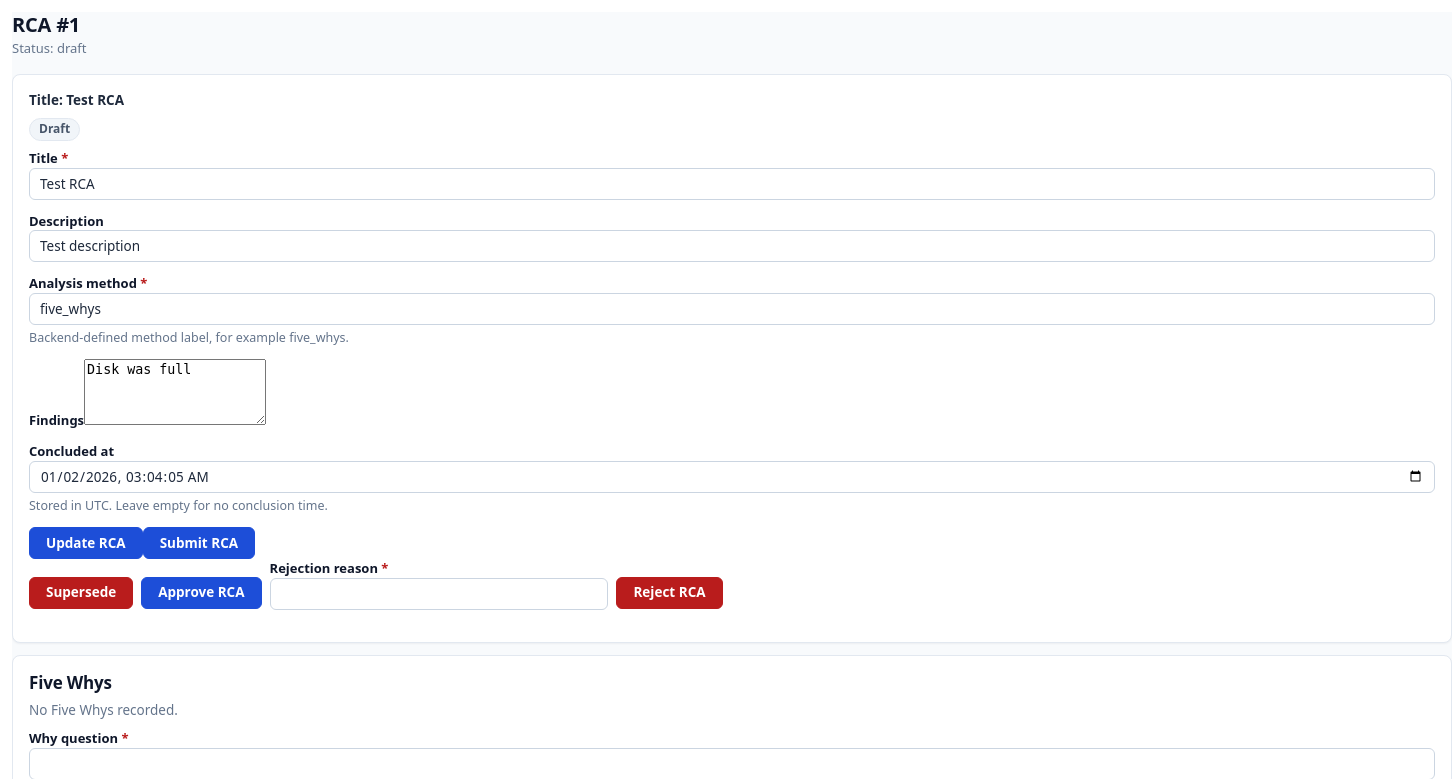
it: RCA › disables analysis saves while an update is in flight
The image size is (1452, 779).
What coordinates should you click on to do the following:
click the button "Update RCA"
I would click on:
 (86, 543)
Its box is [29,527,143,559].
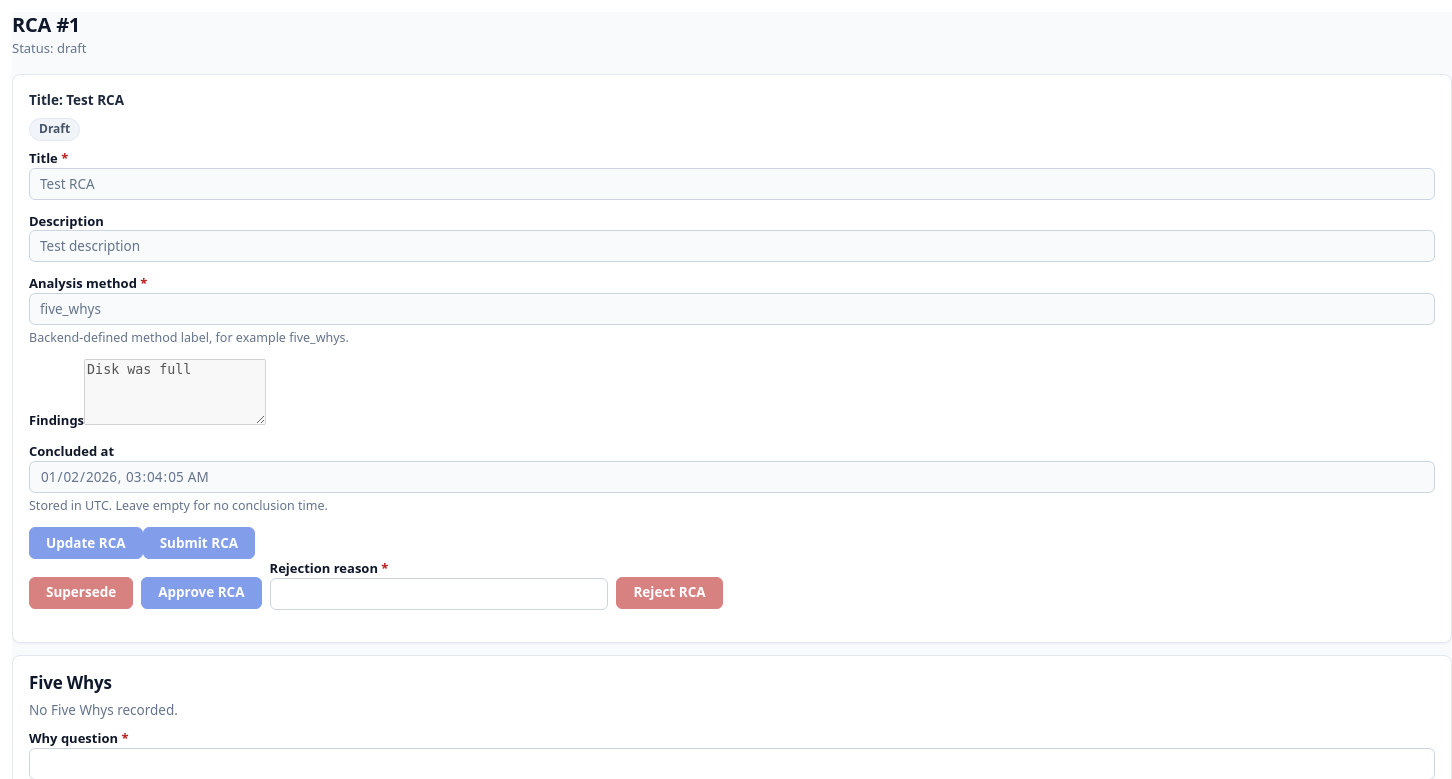
Expected: the button "Update RCA" is disabled
What coordinates should you click on to do the following:
click the button "Update RCA"
I would click on:
 (86, 543)
Its box is [29,527,143,559].
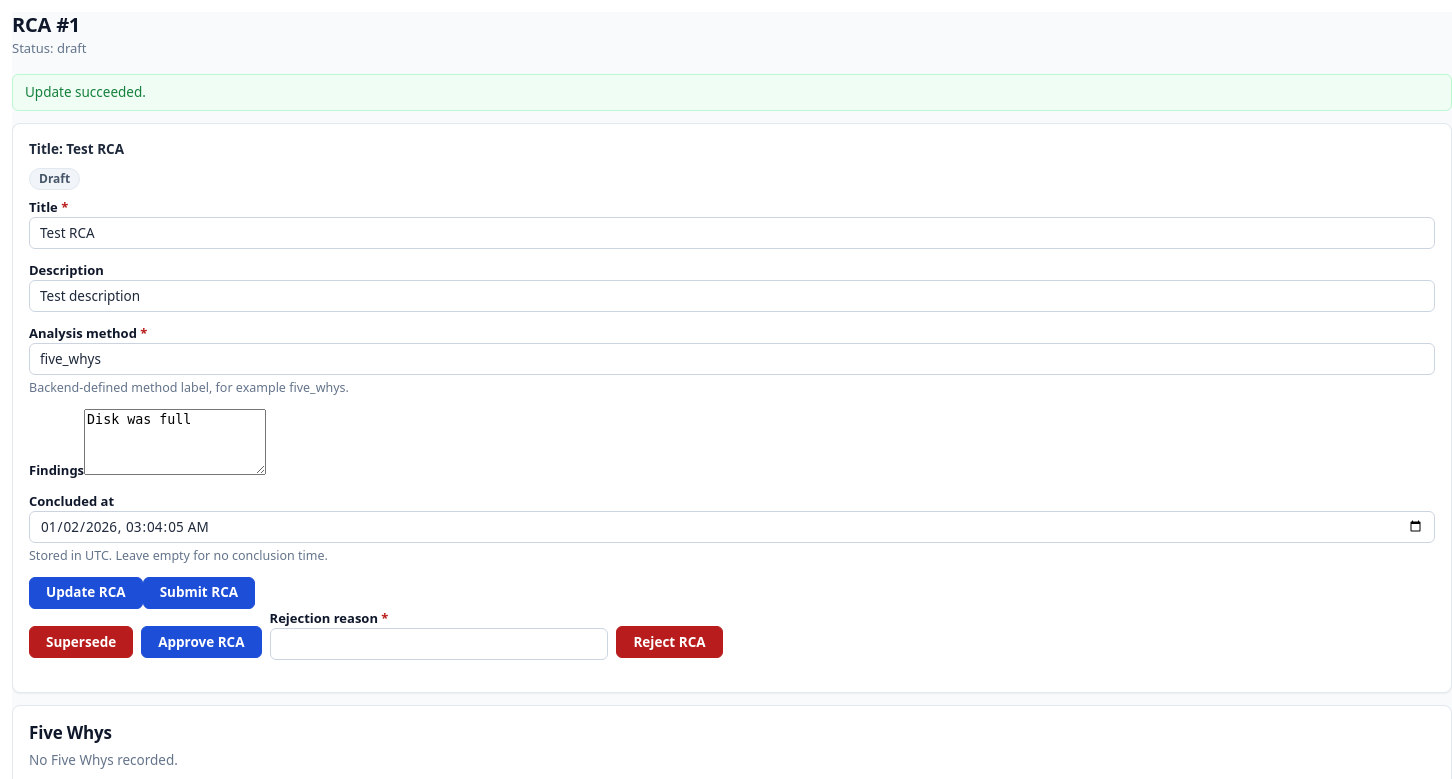
Expected: the text "Update succeeded." is shown, [12,74,1451,111]
